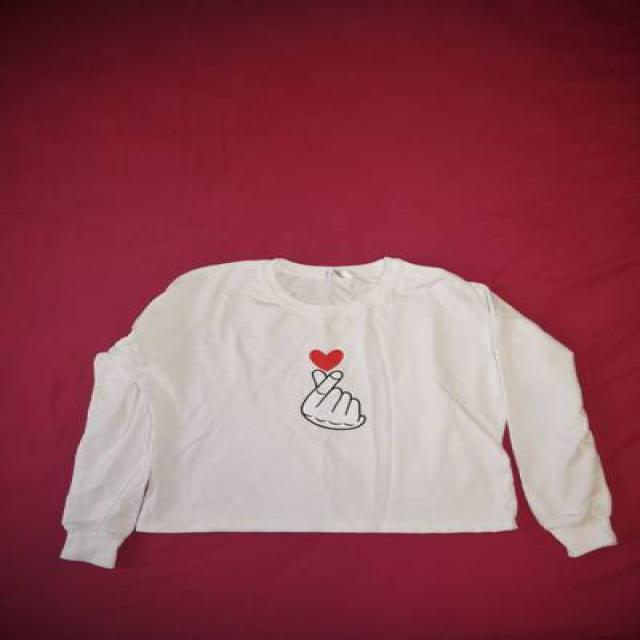Clothes -Biodegradable-: (59, 253, 620, 570)
